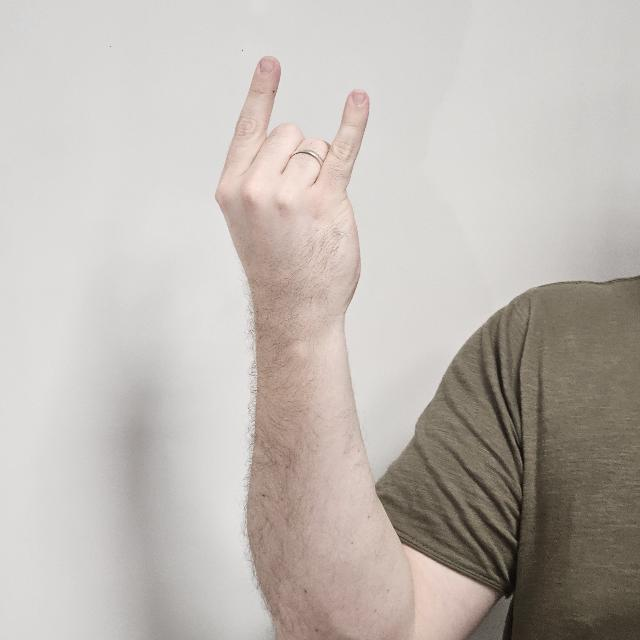L: (214, 56, 374, 338)
